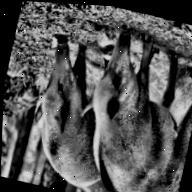boar: (64, 7, 192, 192), (8, 4, 128, 192)
